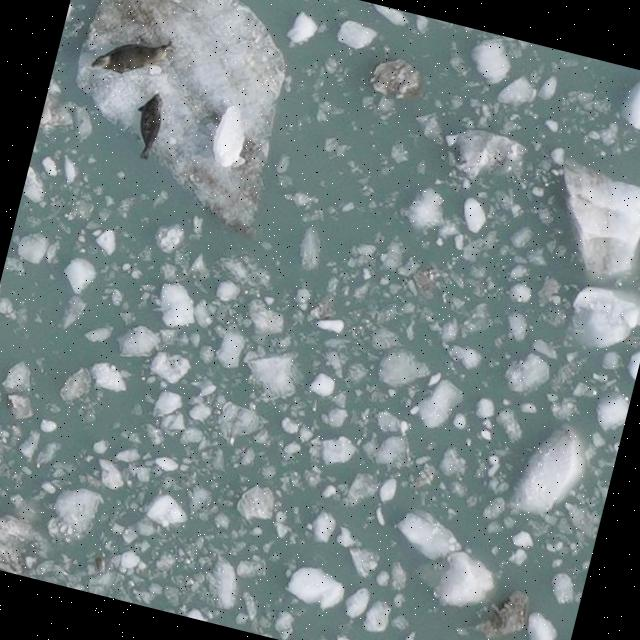seal: (89, 41, 175, 74), (136, 93, 164, 161)
